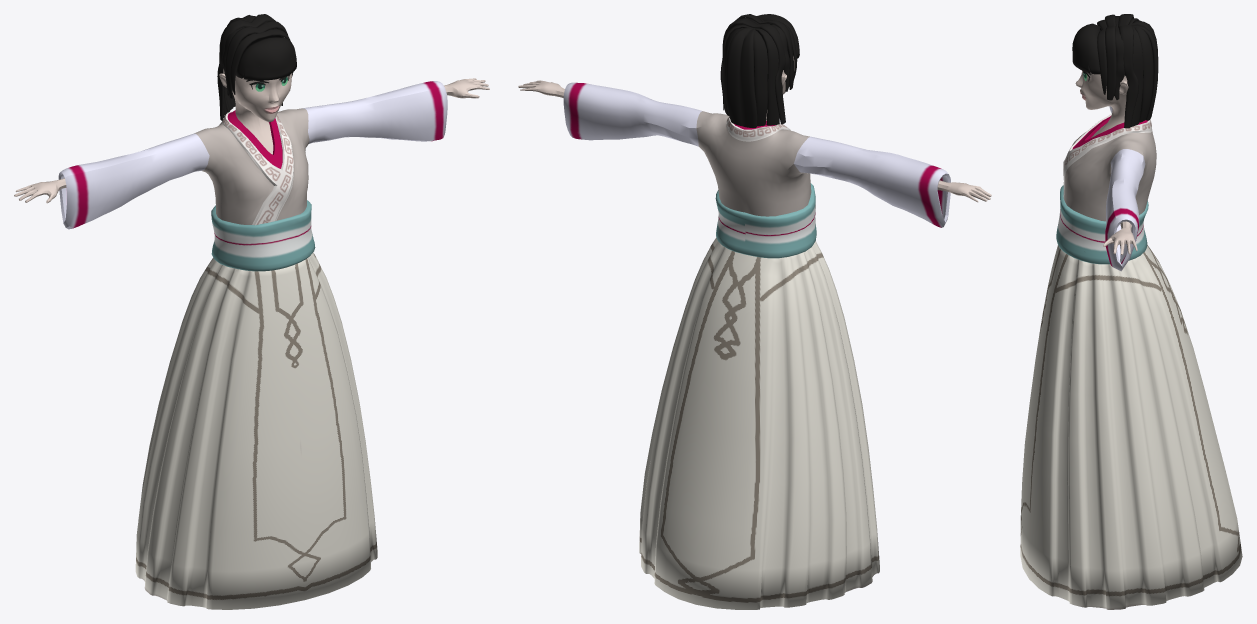
File: boss2colored_.fbx
3 renders of one model, left to right at view 1: azimuth 30°, elevation 25°; view 2: azimuth 150°, elevation 25°; view 3: azimuth 270°, elevation 25°, orthographic.
Parts seen in each view (by area): view 1: Dress_Cylinder, Kimono_Plane.004, Waist_Cylinder.001, Body_Plane.001, Hair1_NurbsPath, Hair2_Cube.003; view 2: Dress_Cylinder, Kimono_Plane.004, Hair1_NurbsPath, Waist_Cylinder.001, Body_Plane.001; view 3: Dress_Cylinder, Kimono_Plane.004, Hair1_NurbsPath, Waist_Cylinder.001, Body_Plane.001, Hair2_Cube.003.
Boxes of the visible parts, box(x1,y1,x2,y2) form: Dress_Cylinder: box(135, 252, 377, 609); Kimono_Plane.004: box(58, 81, 447, 229); Waist_Cylinder.001: box(211, 200, 315, 271); Body_Plane.001: box(14, 34, 489, 203); Hair1_NurbsPath: box(217, 14, 293, 120); Hair2_Cube.003: box(235, 37, 296, 80); Dress_Cylinder: box(639, 237, 879, 609); Kimono_Plane.004: box(563, 82, 950, 227); Hair1_NurbsPath: box(720, 14, 797, 127); Waist_Cylinder.001: box(715, 183, 816, 258); Body_Plane.001: box(518, 24, 991, 202); Dress_Cylinder: box(1020, 245, 1242, 609); Kimono_Plane.004: box(1063, 106, 1156, 271); Hair1_NurbsPath: box(1097, 14, 1158, 128); Waist_Cylinder.001: box(1056, 185, 1148, 264); Body_Plane.001: box(1075, 28, 1143, 254); Hair2_Cube.003: box(1072, 23, 1100, 74).
Size of the model in its own units: 1428 by 1574 by 590.
1 material, 1 textured.
